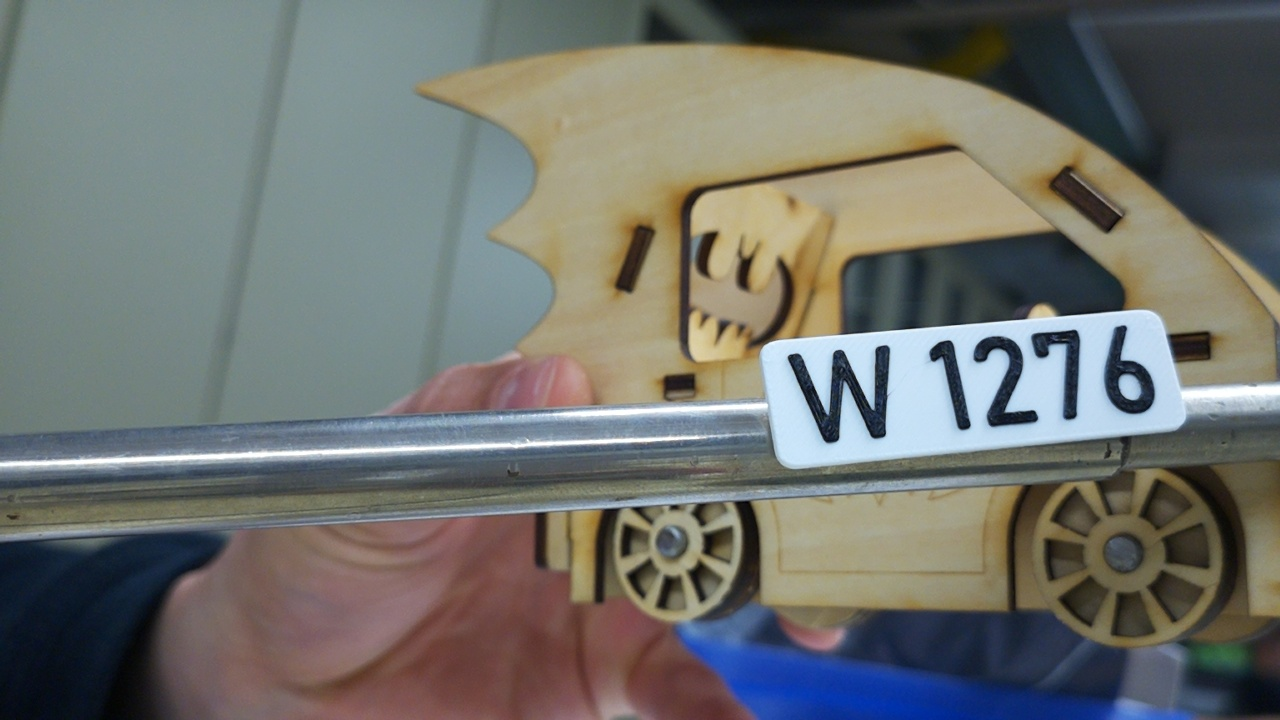license_plate: (756, 307, 1190, 473)
